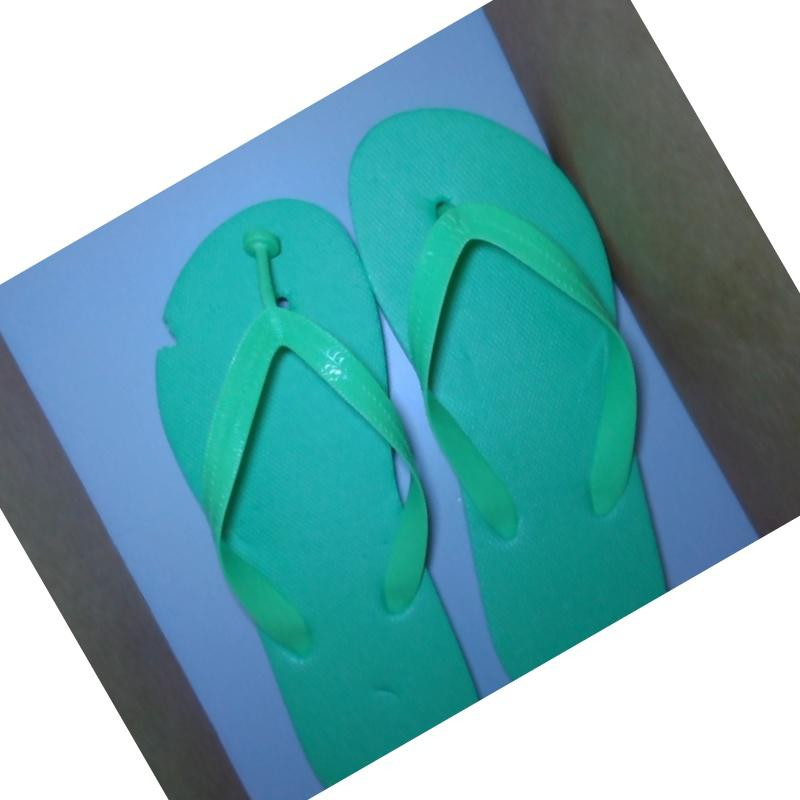chipped: (141, 298, 193, 370)
detached: (235, 219, 296, 284)
